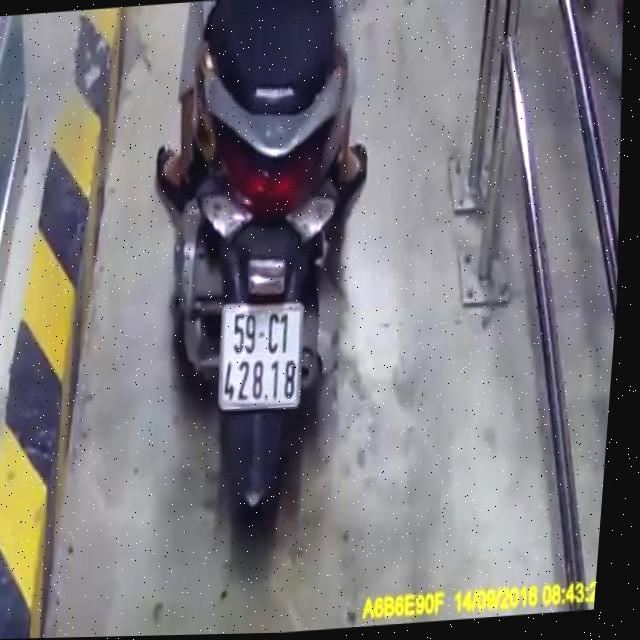motorcycle: (137, 0, 382, 550)
plate: (208, 295, 312, 420)
